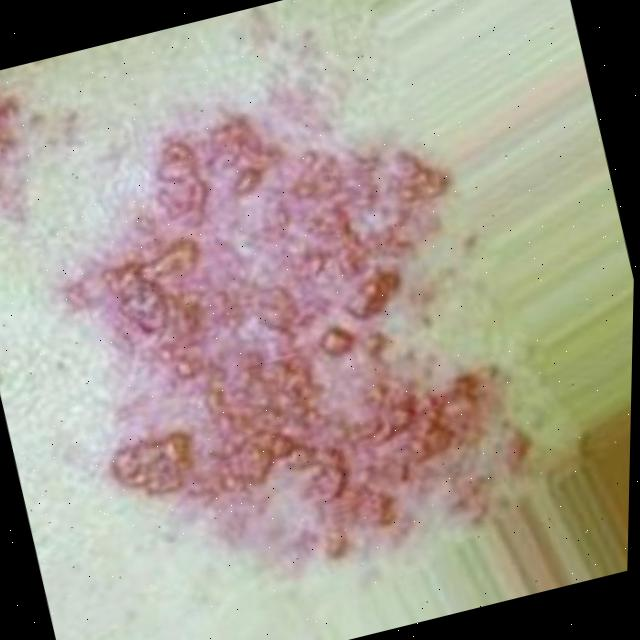Shingles: (32, 68, 554, 609), (0, 72, 20, 214)
